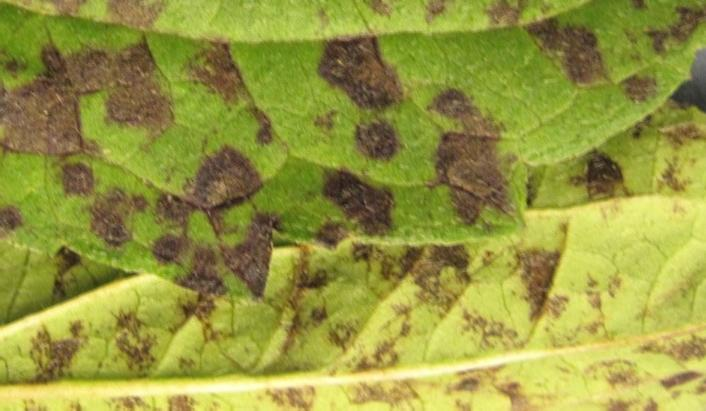Tomato Septoria leaf spot: (0, 88, 706, 411), (0, 0, 706, 280)
